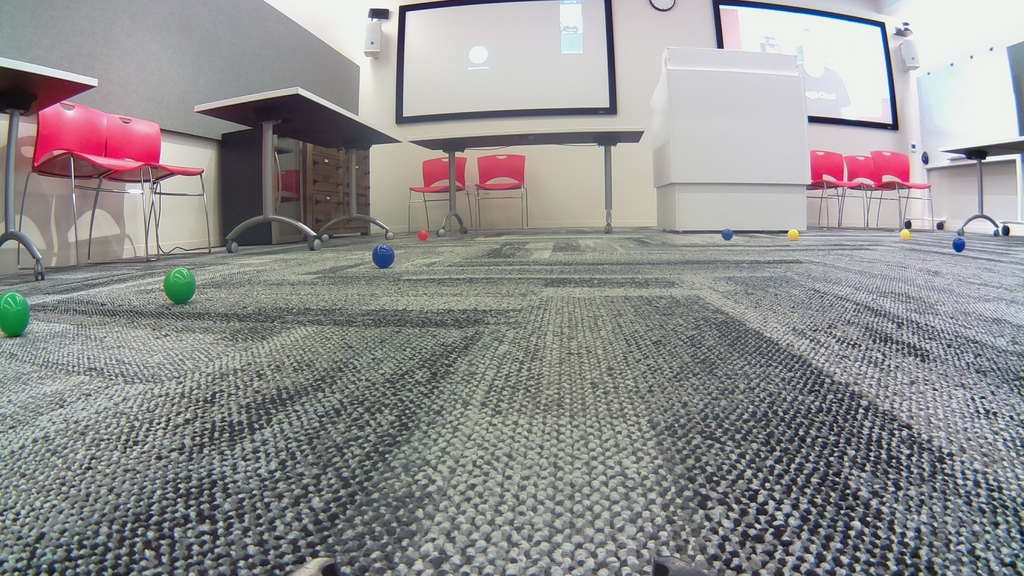ball: (789, 229, 799, 241)
